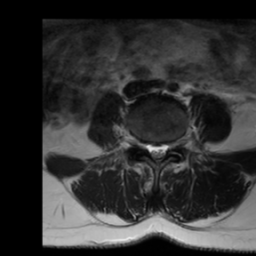CCS_normal: (153, 139, 161, 168)
LFS_normal: (169, 135, 177, 155)
LLS_stenosis: (162, 138, 168, 161)
RFS_normal: (140, 136, 147, 156)
RLS_normal: (147, 137, 153, 160)
